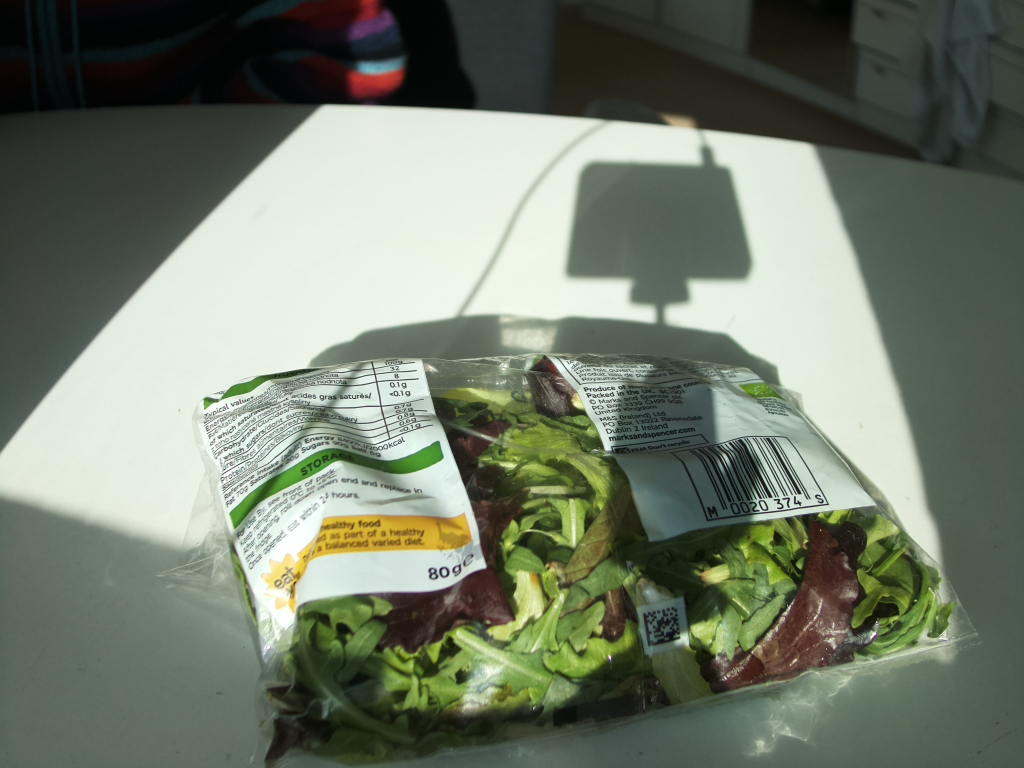salad: (217, 356, 966, 759)
